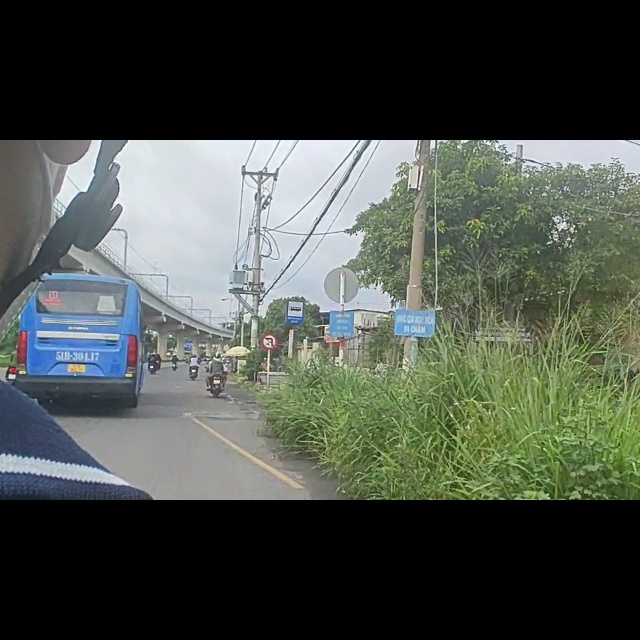bien_cam: (287, 282, 305, 328), (261, 344, 279, 372)
